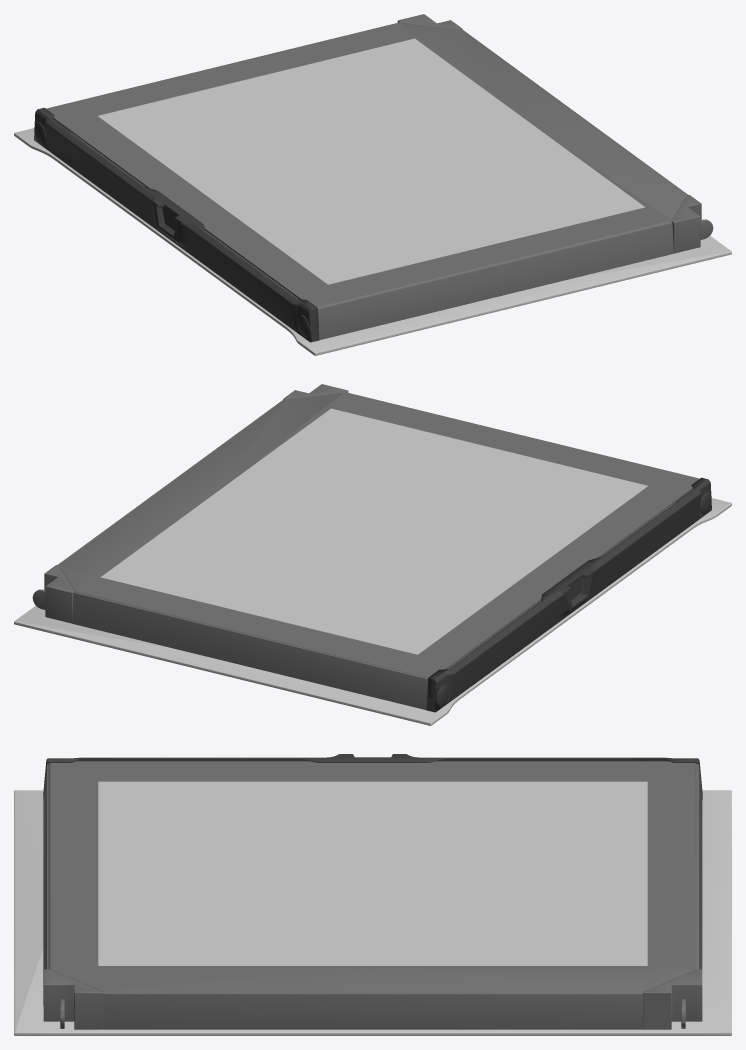
File: SM_Oven_Door.obj
3 renders of one model, top to bottom at view 1: azimuth 30°, elevation 25°; view 2: azimuth 150°, elevation 25°; view 3: azimuth 270°, elevation 25°, orthographic. The views are drawn at different scales.
Parts seen in each view (by area): view 1: SM_Oven_Door; view 2: SM_Oven_Door; view 3: SM_Oven_Door.
Boxes of the visible parts, box(x1,y1,x2,y2) form: SM_Oven_Door: box(14, 14, 731, 355); SM_Oven_Door: box(14, 384, 731, 725); SM_Oven_Door: box(14, 754, 731, 1035).
Bounding box in the file's own units: 0.4731 × 0.0371 × 0.5909.
4 materials, 2 textured.
